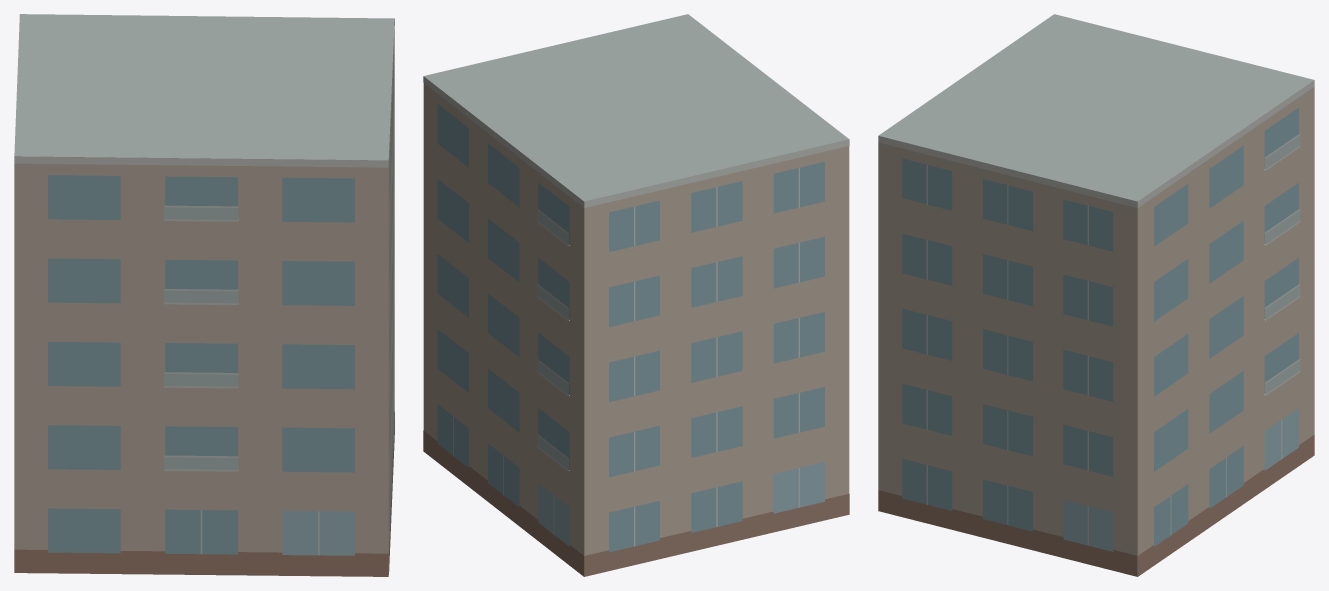
Rendered from survey-upis-32890959.glb.
3 views of the same model, side by side, from view 1: azimuth 30°, elevation 25°; view 2: azimuth 150°, elevation 25°; view 3: azimuth 270°, elevation 25° (orthographic). The views are drawn at different scales.
Parts seen in each view (by area): view 1: survey-upis-32890959.tmp; view 2: survey-upis-32890959.tmp; view 3: survey-upis-32890959.tmp.
Part boxes in pixels (x1=…): survey-upis-32890959.tmp: x1=14, y1=14, x2=394, y2=576; survey-upis-32890959.tmp: x1=423, y1=14, x2=849, y2=576; survey-upis-32890959.tmp: x1=878, y1=14, x2=1314, y2=576.
Bounding box in the file's own units: 15.01 × 14 × 14.76.
